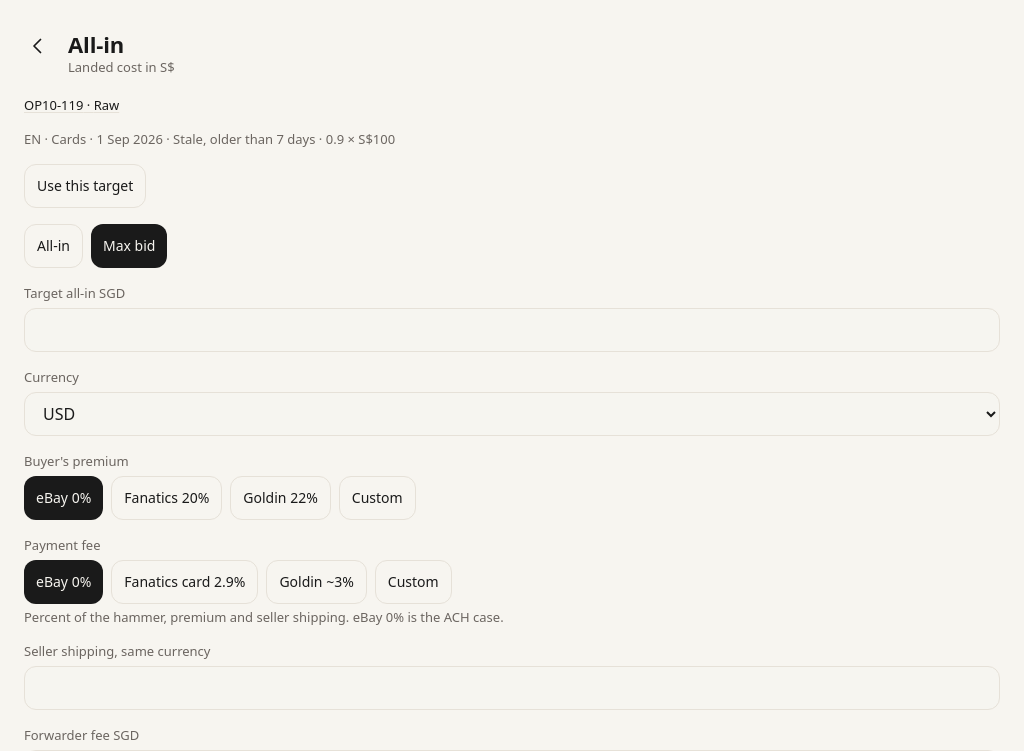
it: All-in calculator › prefills a max bid from 0.9 times the manual English price
Expected: the field labelled "Target all-in SGD" is empty, [24,308,1000,352]
What coordinates should you click on to do the following:
click the button "Use this target"
I would click on:
 (85, 186)
Its box is [24,164,146,208].
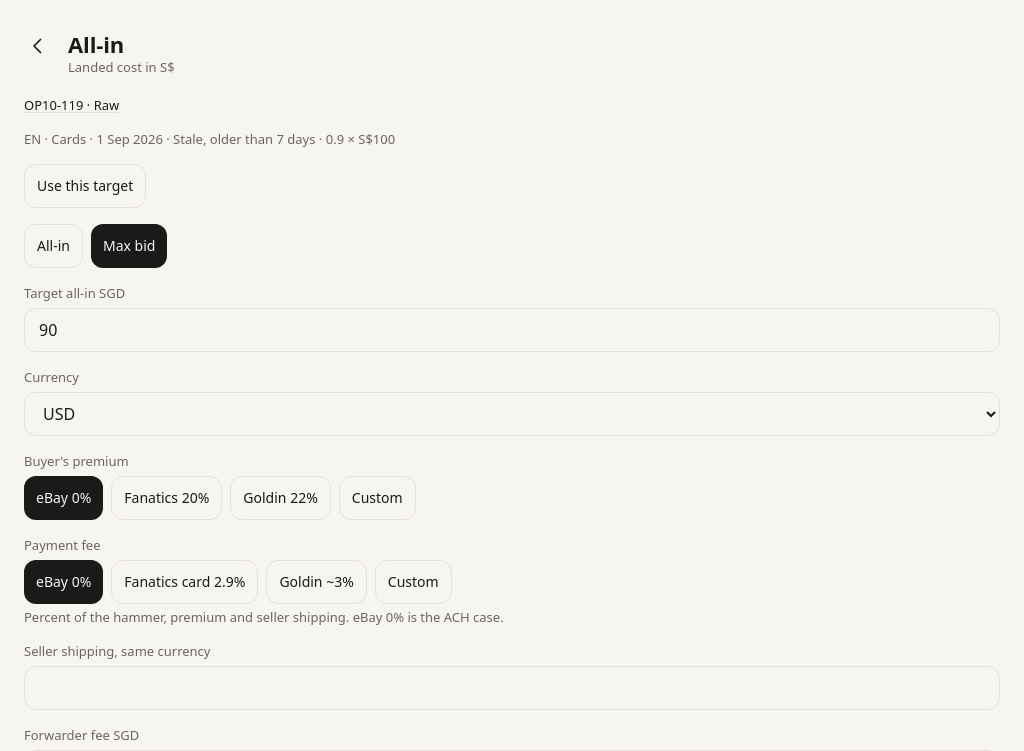
Expected: the field labelled "Target all-in SGD" holds "90", [24,308,1000,352]
